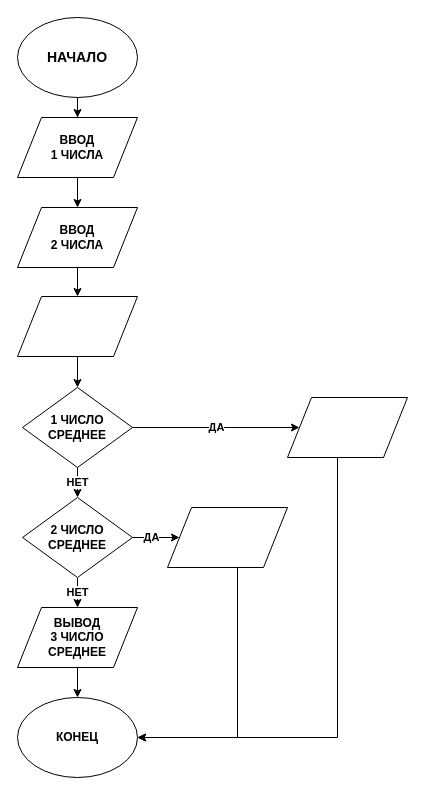
The diagram is 425 pixels wide and 795 high, and some of its shapes have lost their labels. Here are the shapes that lost their labels. From the top down, the centre of each, then its label:
point (77, 326): ВВОД 3 ЧИСЛА
point (347, 427): ВЫВОД 1 ЧИСЛО СРЕДНЕЕ
point (227, 537): ВЫВОД 2 ЧИСЛО СРЕДНЕЕ
